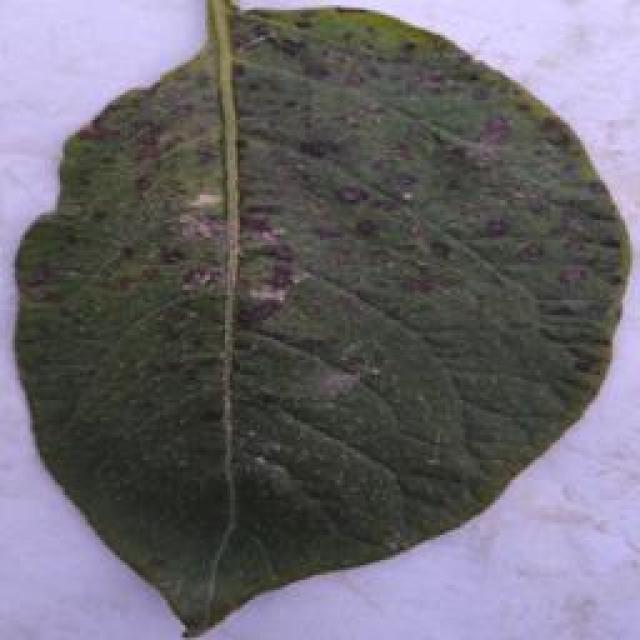Potato_Early_Blight: (12, 8, 640, 638)
